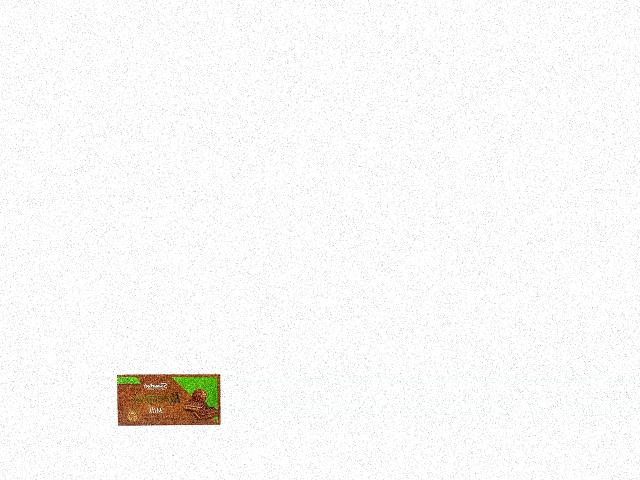chocolate: (112, 372, 222, 430)
